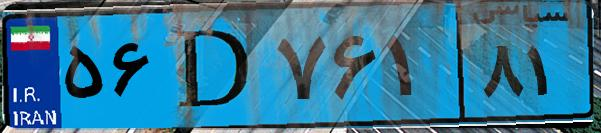1: (385, 28, 445, 110), (525, 38, 570, 115)
5: (57, 26, 110, 100)
6: (330, 28, 385, 110), (110, 28, 158, 98)
7: (270, 28, 330, 110)
8: (475, 38, 525, 113)
D: (158, 12, 270, 120)
